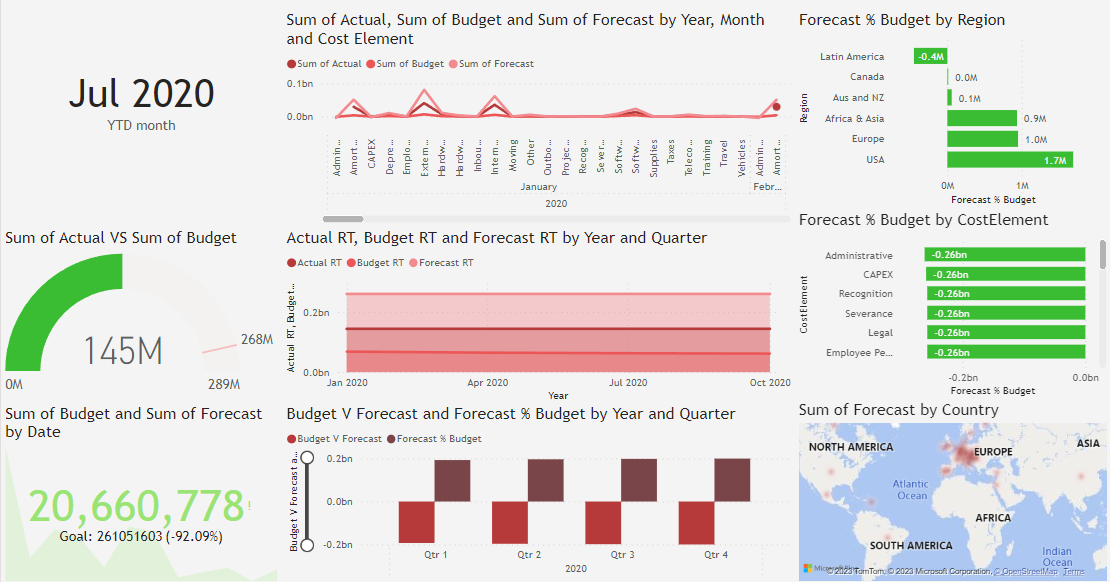

The dashboard page shown, as its layout file describes it:
{"tool":"powerbi","page":{"name":"Page 1","canvas":[1280,720],"ordinal":0},"visuals":[{"type":"gauge","title":"Sum of Actual VS Sum of Budget","fields":{"Y":["Sum(Actuals.Actual)"],"TargetValue":["Sum(Budget.Budget)"]},"box":[0,306.7,280.7,204],"z":0},{"type":"kpi","fields":{"TrendLine":["Budget.Date"],"Indicator":["Sum(Budget.Budget)"],"Goal":["Sum(Forecast.Forecast)"]},"box":[0,510.7,280.7,209.8],"z":2},{"type":"lineChart","fields":{"Category":["Budget.Date.Variation.Date Hierarchy.Year","Budget.Date.Variation.Date Hierarchy.Month","CostElements.Cost Element"],"Y":["Sum(Actuals.Actual)","Sum(Budget.Budget)","Sum(Forecast.Forecast)"]},"box":[324.1,56.4,591.7,250.3],"z":3},{"type":"areaChart","fields":{"Y":["Actuals.Actual RT","Budget.Budget RT","Forecast.Forecast RT"],"Category":["Budget.Date.Variation.Date Hierarchy.Year","Budget.Date.Variation.Date Hierarchy.Quarter","Budget.Date.Variation.Date Hierarchy.Month","Budget.Date.Variation.Date Hierarchy.Day"]},"box":[324.1,306.7,591.7,205.4],"z":4},{"type":"lineClusteredColumnComboChart","fields":{"Category":["Budget.Date.Variation.Date Hierarchy.Year","Budget.Date.Variation.Date Hierarchy.Quarter","Budget.Date.Variation.Date Hierarchy.Month"],"Y":["Budget.Budget V","Budget.Forecast % Budget"]},"box":[324.1,510.7,591.7,209.8],"z":5},{"type":"clusteredBarChart","fields":{"Category":["Regions.Region"],"Y":["Budget.Forecast % Budget"]},"box":[915.7,56.4,364.6,230],"z":6},{"type":"map","fields":{"Size":["Sum(Actuals.Actual)"],"Category":["Regions.Country"]},"box":[915.7,506.3,364.6,214.1],"z":7},{"type":"card","fields":{"Values":["Actuals.YTD month"]},"box":[0,56.4,324.1,205.4],"z":8},{"type":"clusteredBarChart","fields":{"Category":["Forecast.CostElement"],"Y":["Budget.Forecast % Budget"]},"box":[915.7,286.4,364.6,219.9],"z":9}]}

Visuals, with their boxes on the page's 1280x720 design canvas (x1, y1, x2, y2). These are canvas units, not pixel positions in the 1110x582 screenshot, which may show the page scaled, cropped or inside an application window:
"Sum of Actual VS Sum of Budget" gauge: [0, 307, 281, 511]
kpi - Budget.Date x Sum(Budget.Budget): [0, 511, 281, 720]
lineChart - Budget.Date.Variation.Date Hierarchy.Year x Budget.Date.Variation.Date Hierarchy.Month: [324, 56, 916, 307]
areaChart - Actuals.Actual RT x Budget.Budget RT: [324, 307, 916, 512]
lineClusteredColumnComboChart - Budget.Date.Variation.Date Hierarchy.Year x Budget.Date.Variation.Date Hierarchy.Quarter: [324, 511, 916, 720]
clusteredBarChart - Regions.Region x Budget.Forecast % Budget: [916, 56, 1280, 286]
map - Sum(Actuals.Actual) x Regions.Country: [916, 506, 1280, 720]
card - Actuals.YTD month: [0, 56, 324, 262]
clusteredBarChart - Forecast.CostElement x Budget.Forecast % Budget: [916, 286, 1280, 506]
